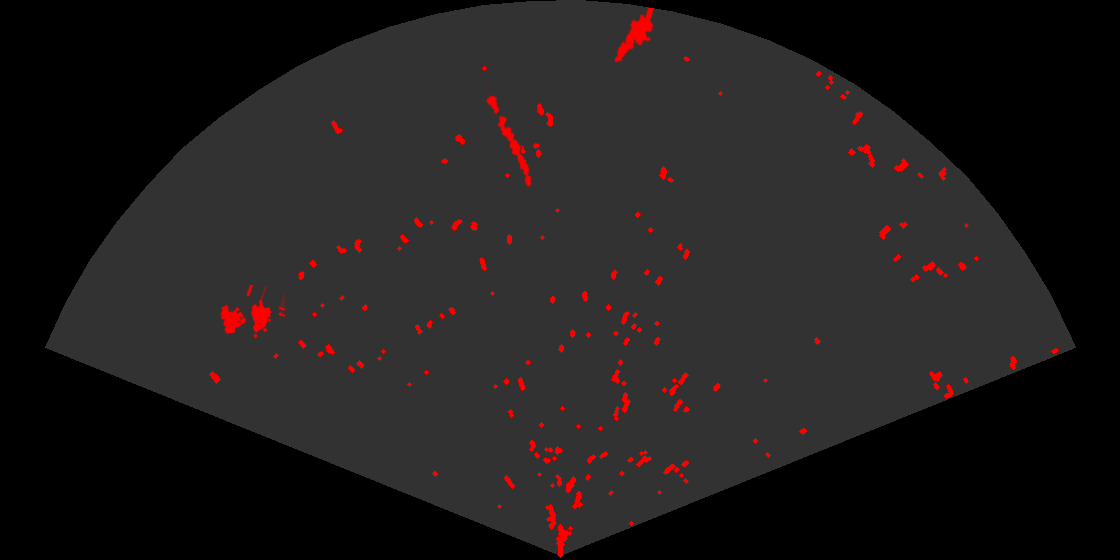cage: (219, 285, 285, 340)
chain: (483, 85, 533, 188)
frogman: (613, 8, 656, 65)
